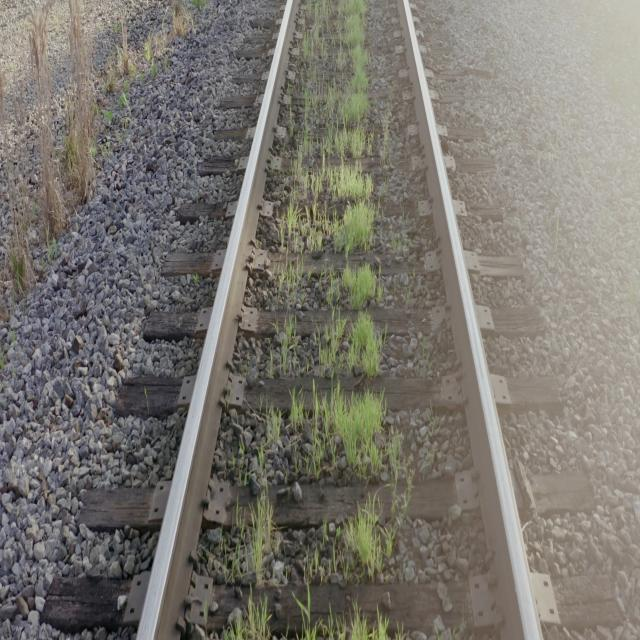Plant: (279, 0, 376, 262), (289, 389, 401, 482), (316, 264, 382, 378), (339, 498, 399, 582), (301, 596, 388, 640), (345, 498, 382, 580), (250, 496, 280, 582), (222, 596, 271, 640), (281, 322, 298, 371), (266, 409, 282, 442), (274, 269, 300, 284)
